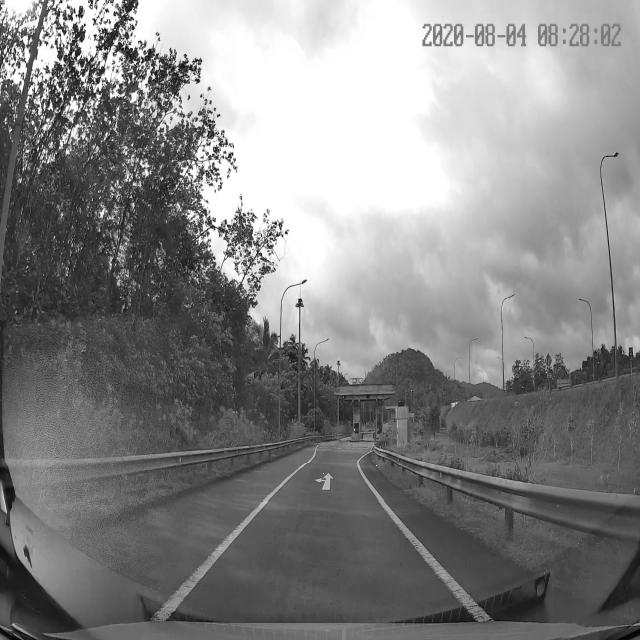forward_lft: (261, 463, 387, 501)
